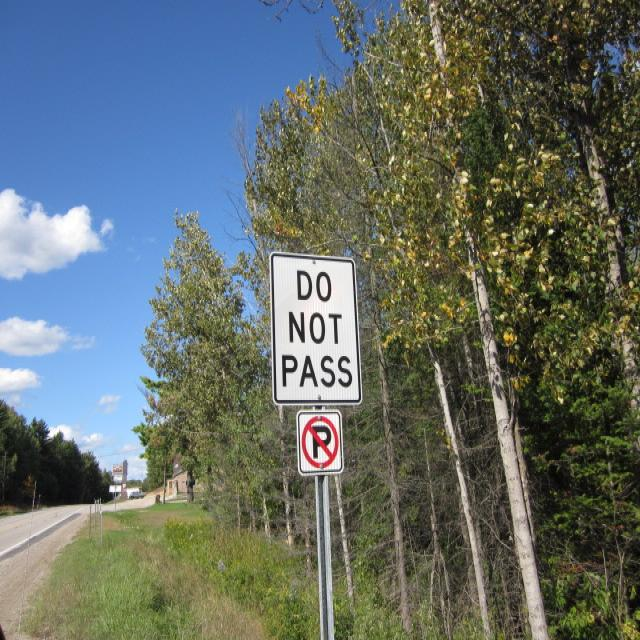regulatory: (266, 255, 366, 405), (290, 400, 352, 483)
